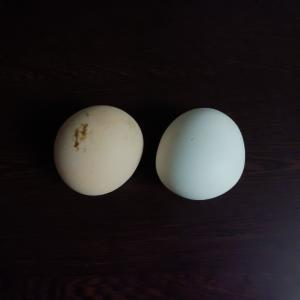Egg: (153, 101, 254, 204), (58, 98, 140, 204)
